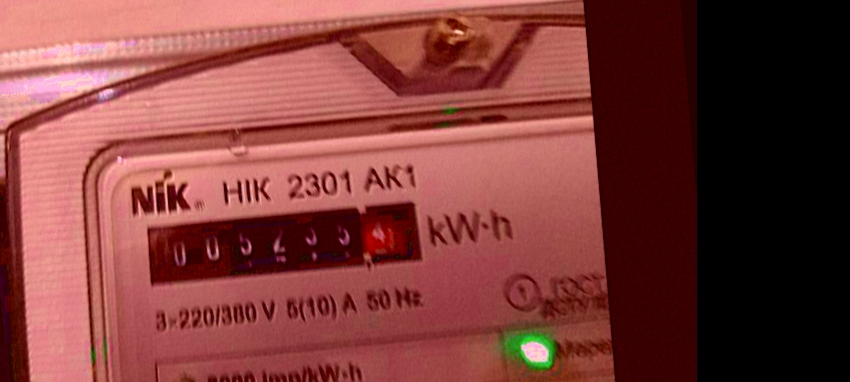0: (201, 230, 224, 265), (170, 237, 190, 269)
2: (267, 221, 290, 257)
3: (298, 217, 325, 251)
4: (367, 211, 392, 249)
5: (332, 213, 357, 251), (235, 225, 257, 260)
screen: (128, 188, 437, 299)
